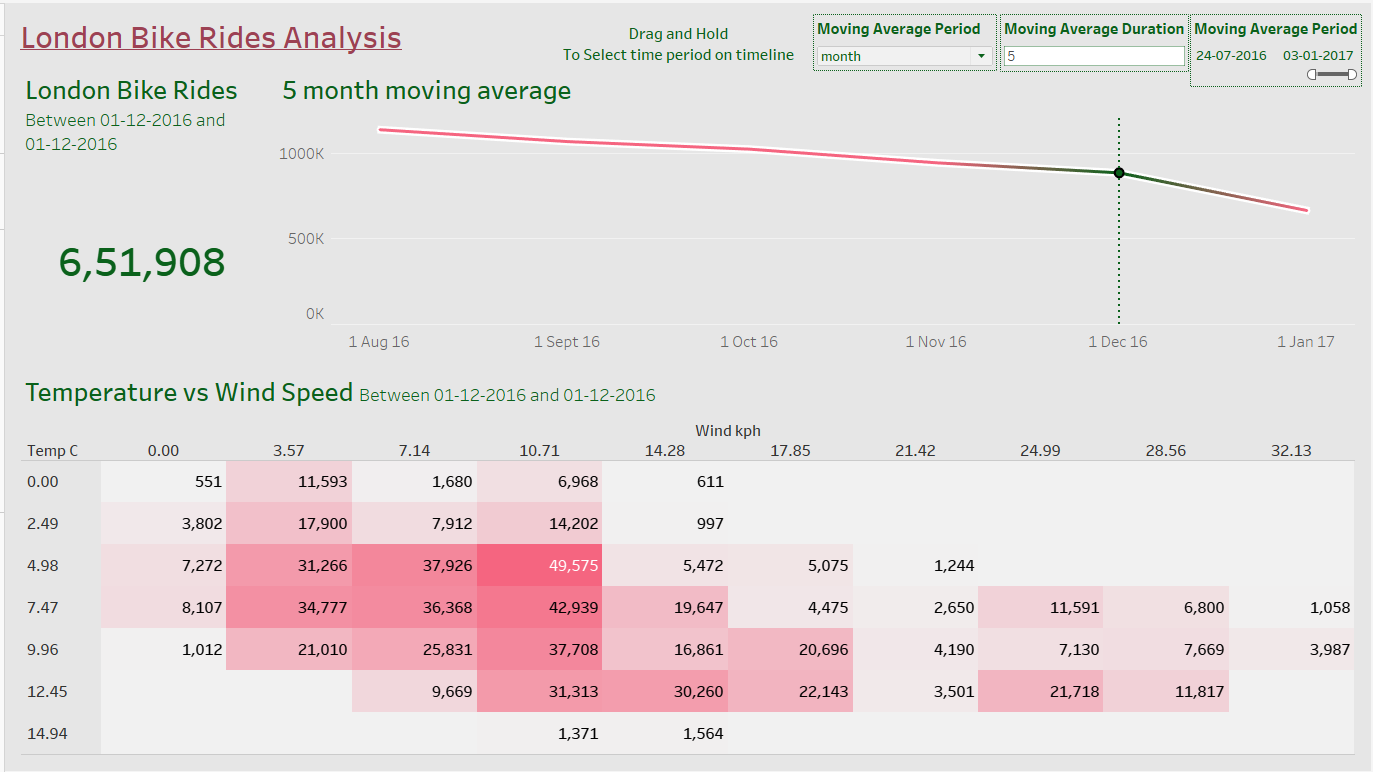

What the dashboard file says about the page in this screenshot:
{"tool":"tableau","page":{"name":"Dashboard 1","canvas":[1366,768],"ordinal":0},"visuals":[{"type":"title","box":[8,8,1350,49]},{"type":"parameter","param":"[Parameters].[Parameter 1]","box":[808,11,184,57]},{"type":"parameter","param":"[Parameters].[Parameter 2]","box":[995,11,189,58]},{"type":"filter","title":"Moving Average","param":"[federated.009aq2s0qbhtbi12j41ha05el5rv].[none:Calculation_1534601616478445568:q","box":[1185,11,172,73]},{"type":"text","box":[547,13,253,56]},{"type":"worksheet","title":"Total Rides","mark":"Automatic","box":[8,57,257,301.9]},{"type":"worksheet","title":"Moving Average","mark":"Automatic","rows":["Calculation1"],"cols":["Calculation_1534601616478445568"],"box":[265,57,1093,301.9]},{"type":"worksheet","title":"HeatMap","mark":"Square","rows":["temp real C (bin)"],"cols":["Wind Speed Kph (bin)"],"box":[8,358.9,1350,401]}]}

Visuals, with their boxes in screenshot pixels (x1, y1, x2, y2), scaled from the page's 1366x768 canvas onto the 1373x772 screenshot:
title: box(8, 8, 1365, 57)
parameter: box(812, 11, 997, 68)
parameter: box(1000, 11, 1190, 69)
"Moving Average" filter: box(1191, 11, 1364, 84)
text: box(550, 13, 804, 69)
"Total Rides" worksheet: box(8, 57, 266, 361)
"Moving Average" worksheet: box(266, 57, 1365, 361)
"HeatMap" worksheet (Square marks): box(8, 361, 1365, 764)
